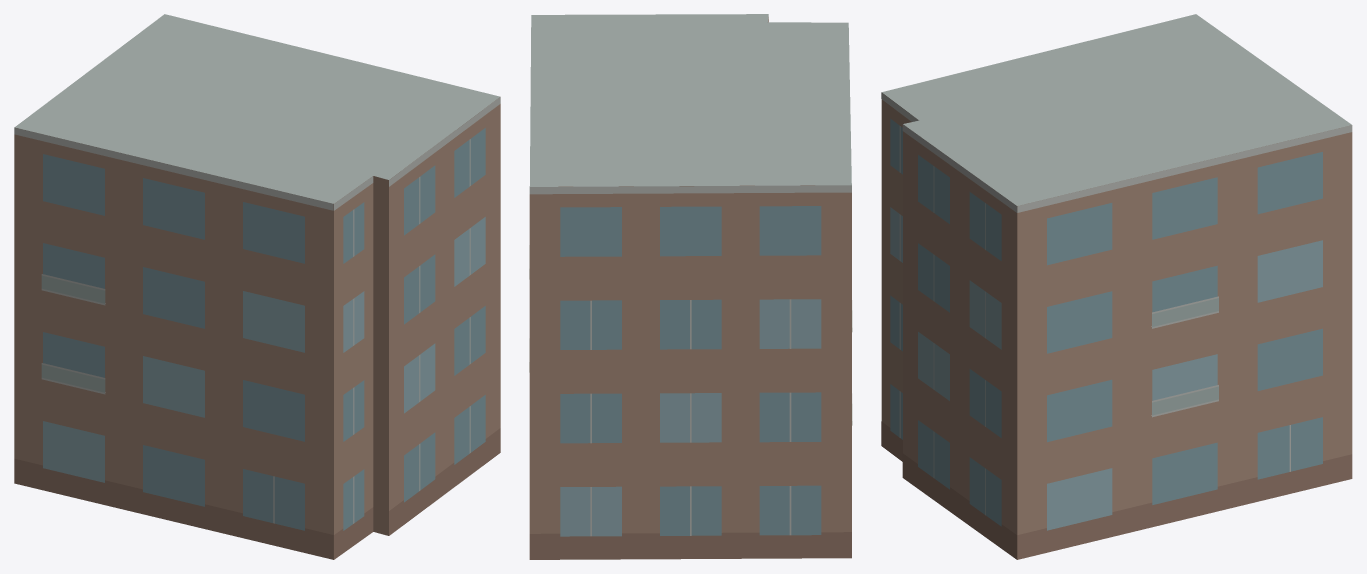
The model's file is survey-upis-32459310.glb.
The picture shows the model from 3 angles, left to right: view 1: azimuth 30°, elevation 25°; view 2: azimuth 150°, elevation 25°; view 3: azimuth 270°, elevation 25°; orthographic projection. The views are drawn at different scales.
Parts seen in each view (by area): view 1: survey-upis-32459310.tmp; view 2: survey-upis-32459310.tmp; view 3: survey-upis-32459310.tmp.
Boxes of the visible parts, bbox=[...] form: survey-upis-32459310.tmp: bbox=[14, 14, 500, 559]; survey-upis-32459310.tmp: bbox=[529, 14, 852, 559]; survey-upis-32459310.tmp: bbox=[881, 14, 1352, 559].
Size of the model in its own units: 14.45 by 12.4 by 14.96.
